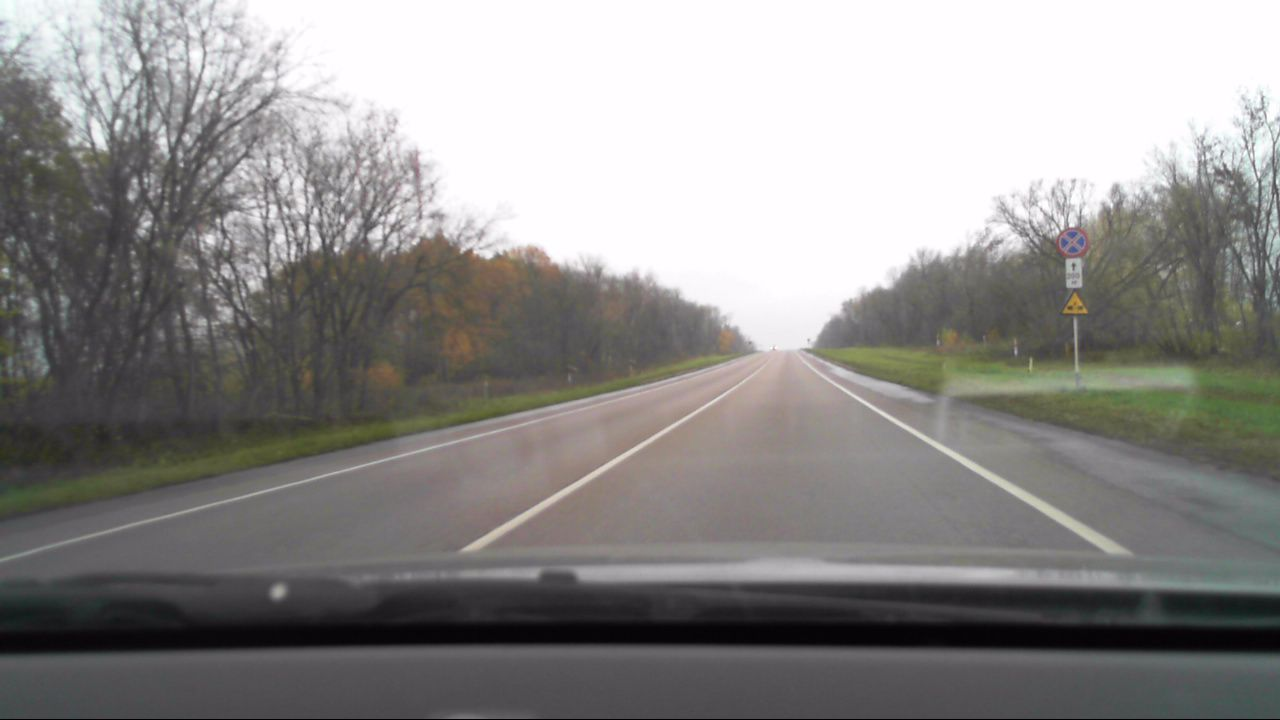No Parking: (1056, 228, 1087, 256)
